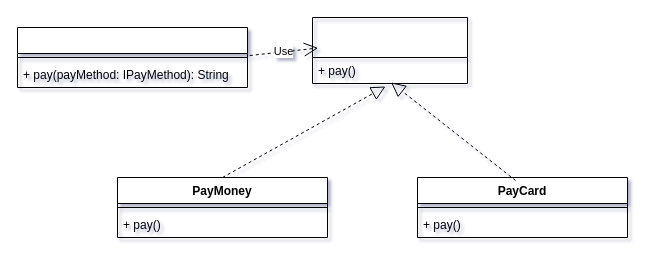
Some shapes in this 651 by 264 pixel diagram are drawn without their labels. Each missing label, with the box of its shape:
IPayMethod <<interface>>: (312, 16, 468, 84)
PurchaseService: (16, 26, 248, 88)
